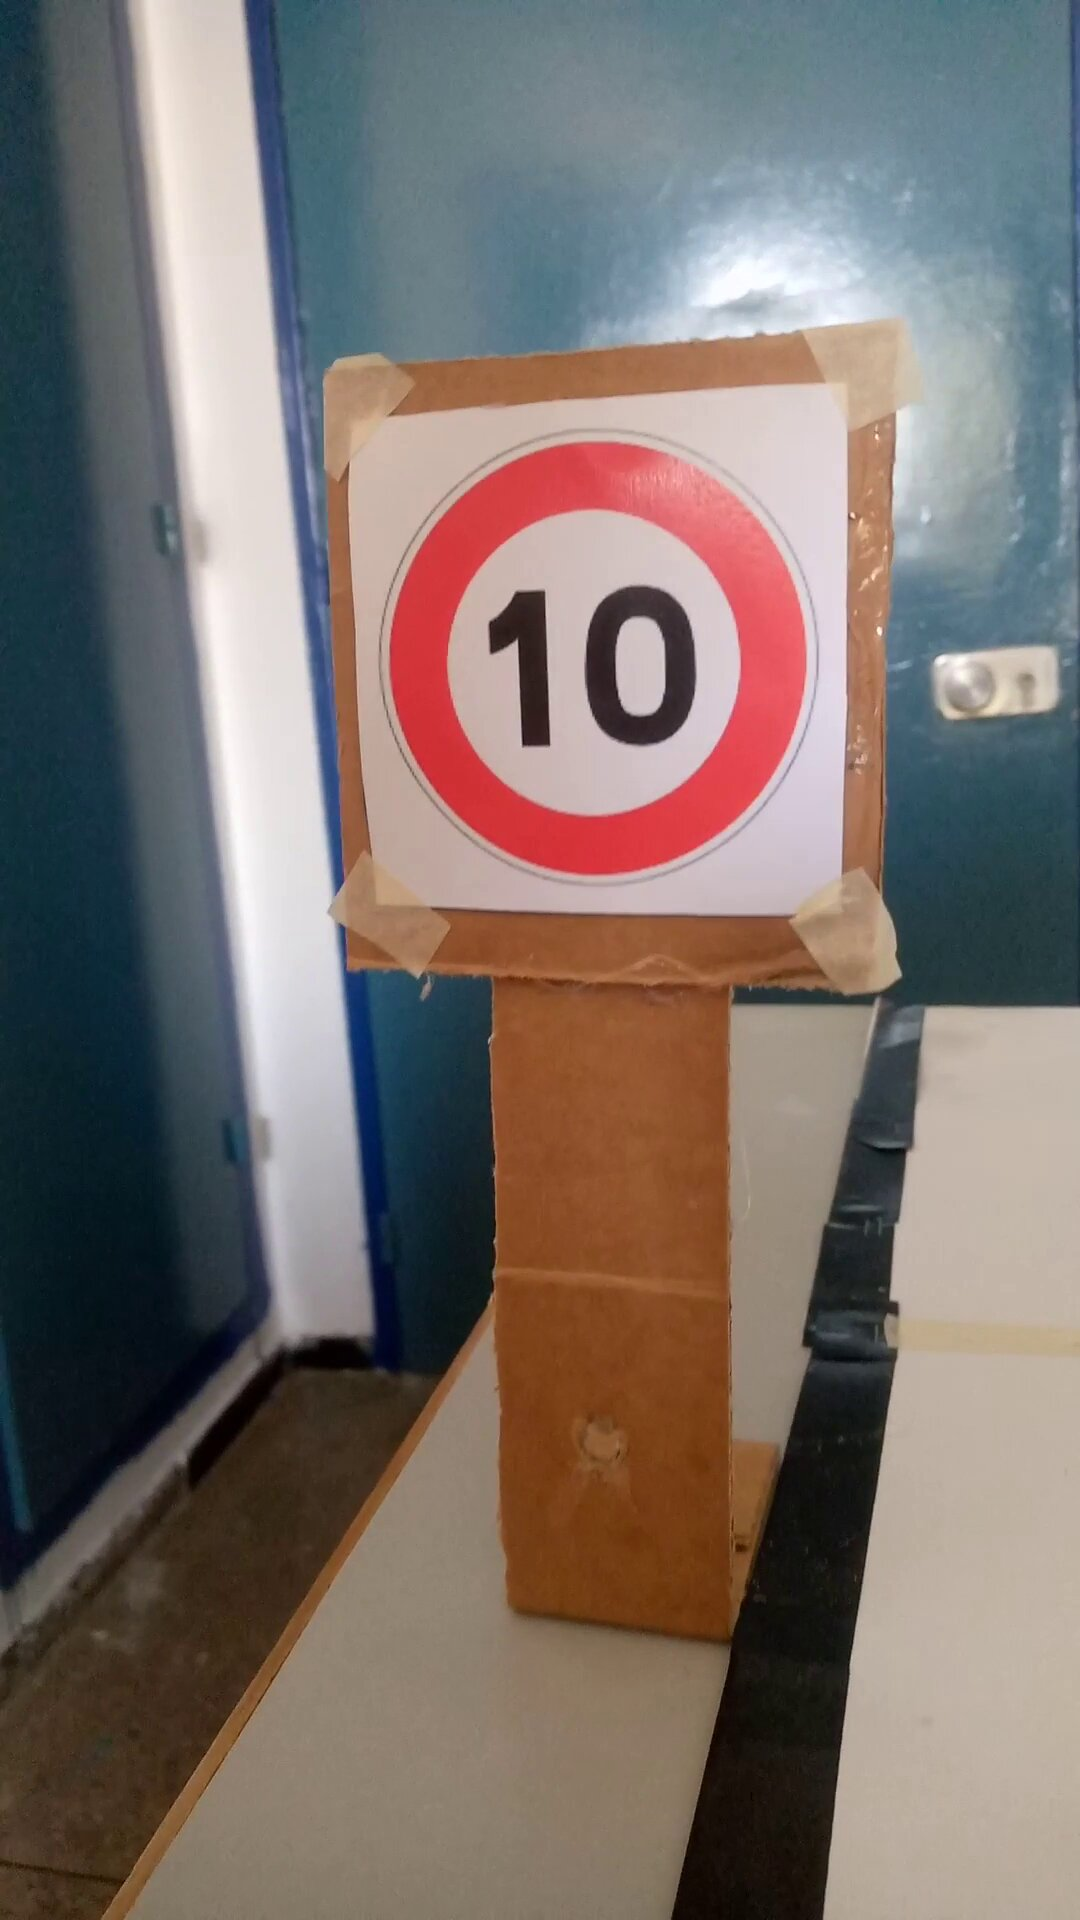panel011: (347, 423, 858, 928)
